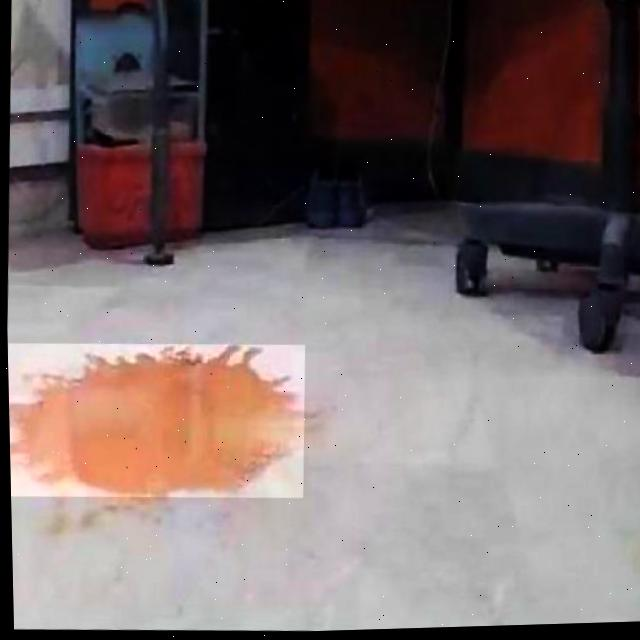spillage: (7, 346, 301, 497)
